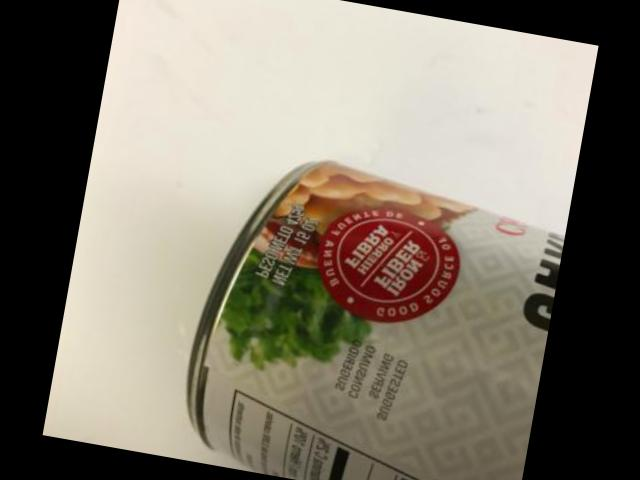metal: (186, 159, 565, 480)
